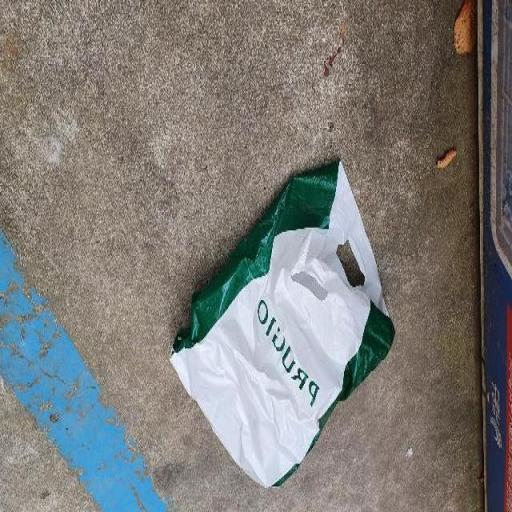plastic-bag: (170, 158, 397, 492)
